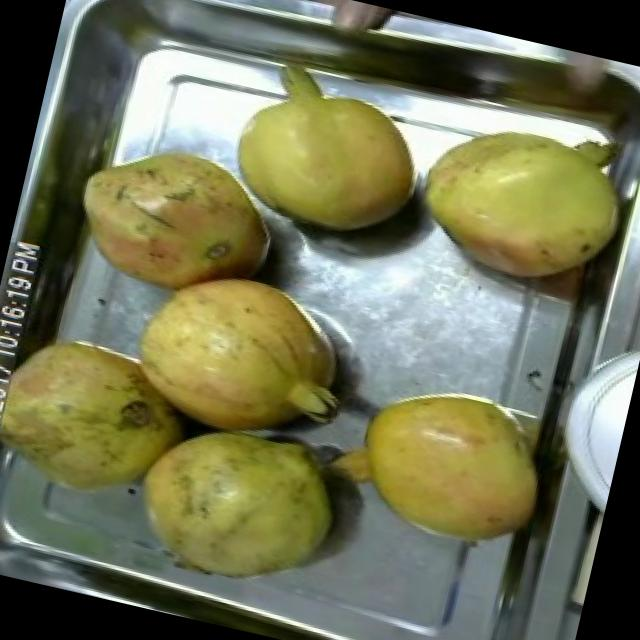fruit: (106, 240, 382, 467), (100, 390, 371, 620), (319, 356, 568, 572), (395, 97, 640, 306), (56, 120, 300, 322), (207, 58, 443, 258), (0, 308, 200, 529)
